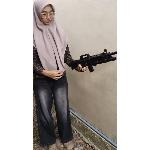Senapan: (66, 46, 118, 76)
